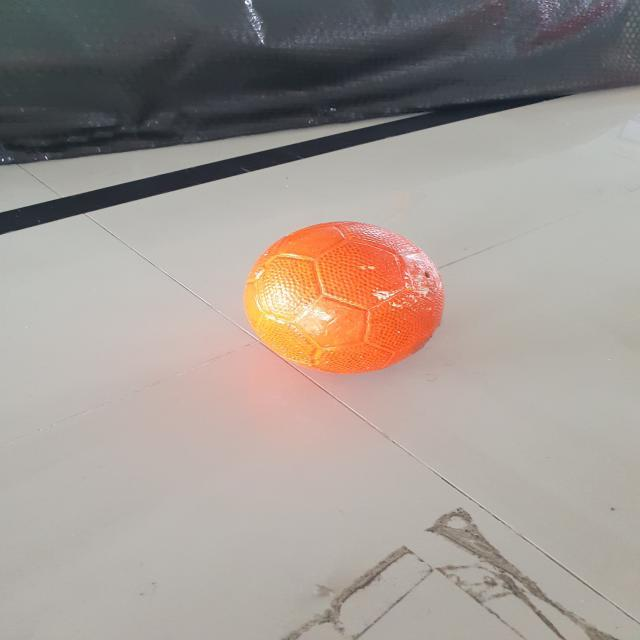bola: (221, 212, 460, 395)
